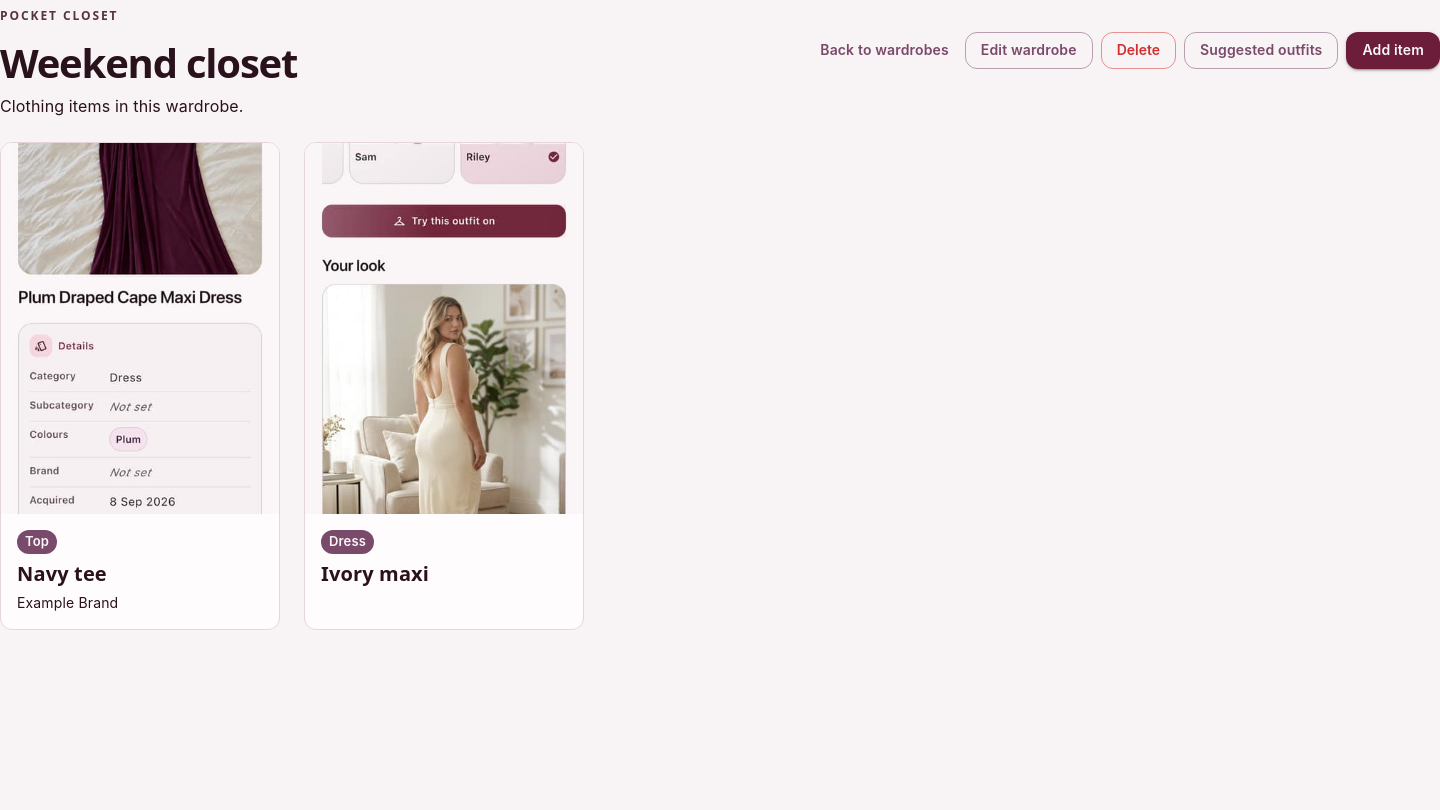
Test: WardrobeDetailPage › shows the server delete error, or a fallback when there is no message
Click the button with aria-label "Delete this wardrobe" at (1138, 50), box [1101,32,1176,68]
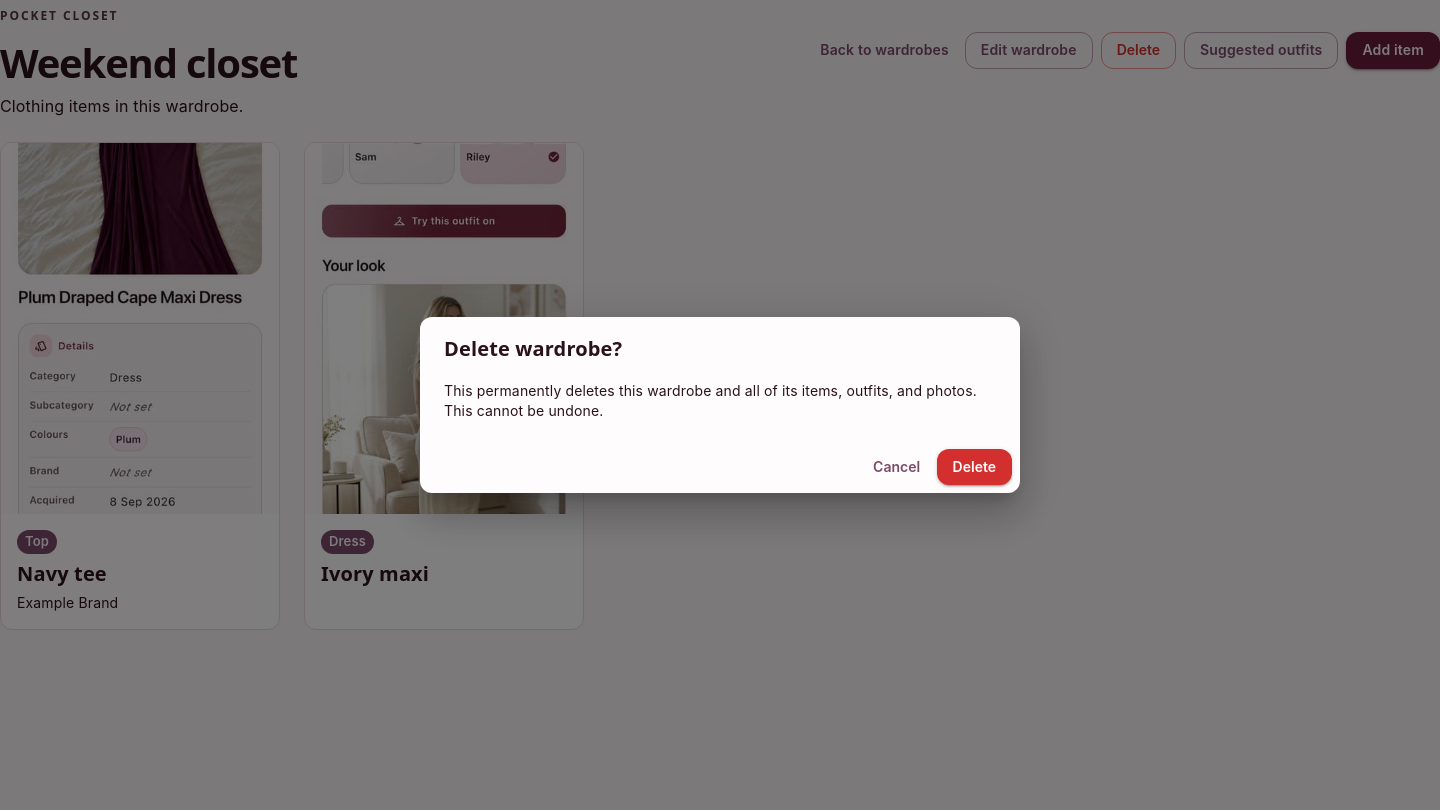
Click the button "Delete" at (974, 467), box [937,449,1012,485]
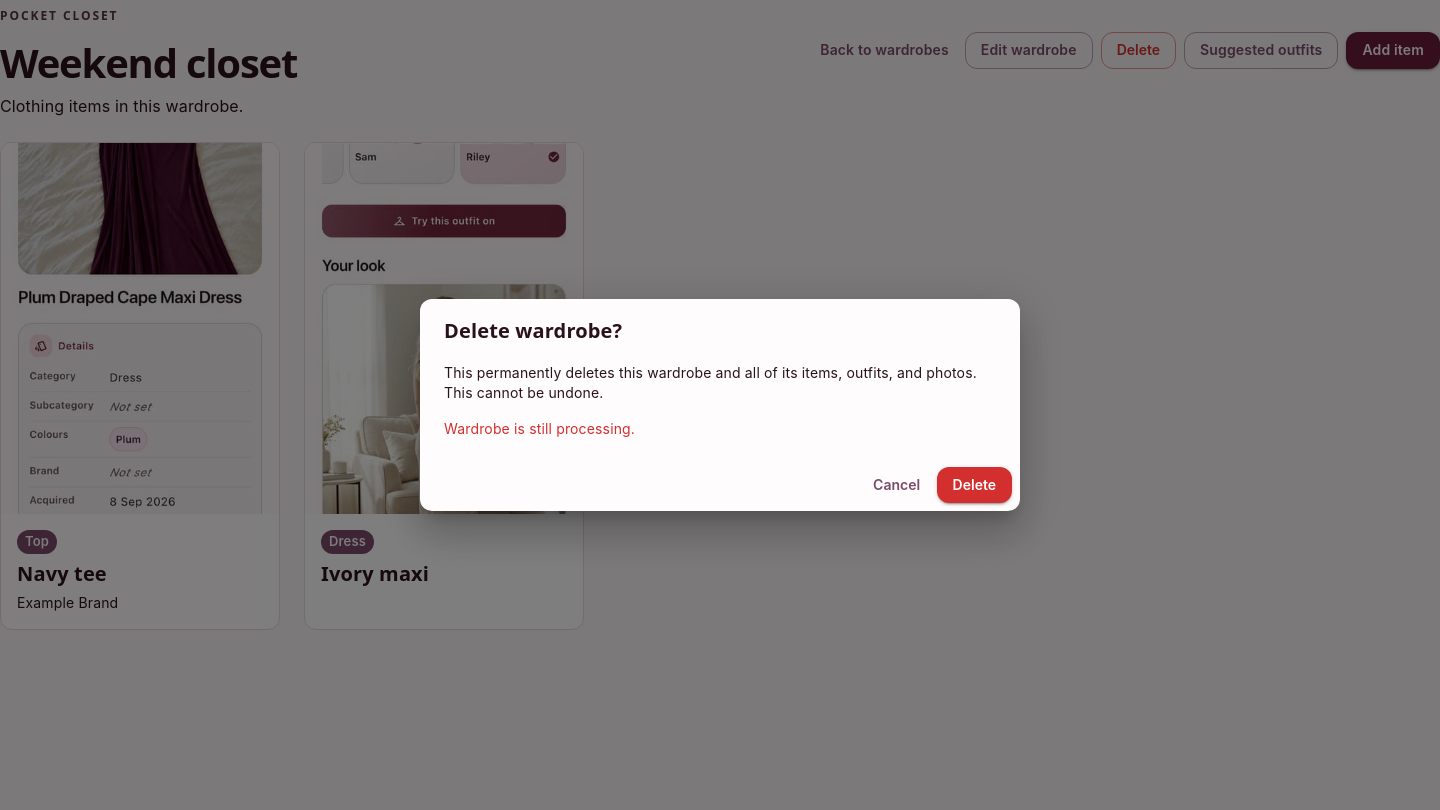
Expected: the heading "Weekend closet" is shown, [0,40,297,86]
Expected: the message reads "Wardrobe is still processing.", [444,420,635,437]
Click the button "Delete" at (974, 485), box [937,467,1012,503]
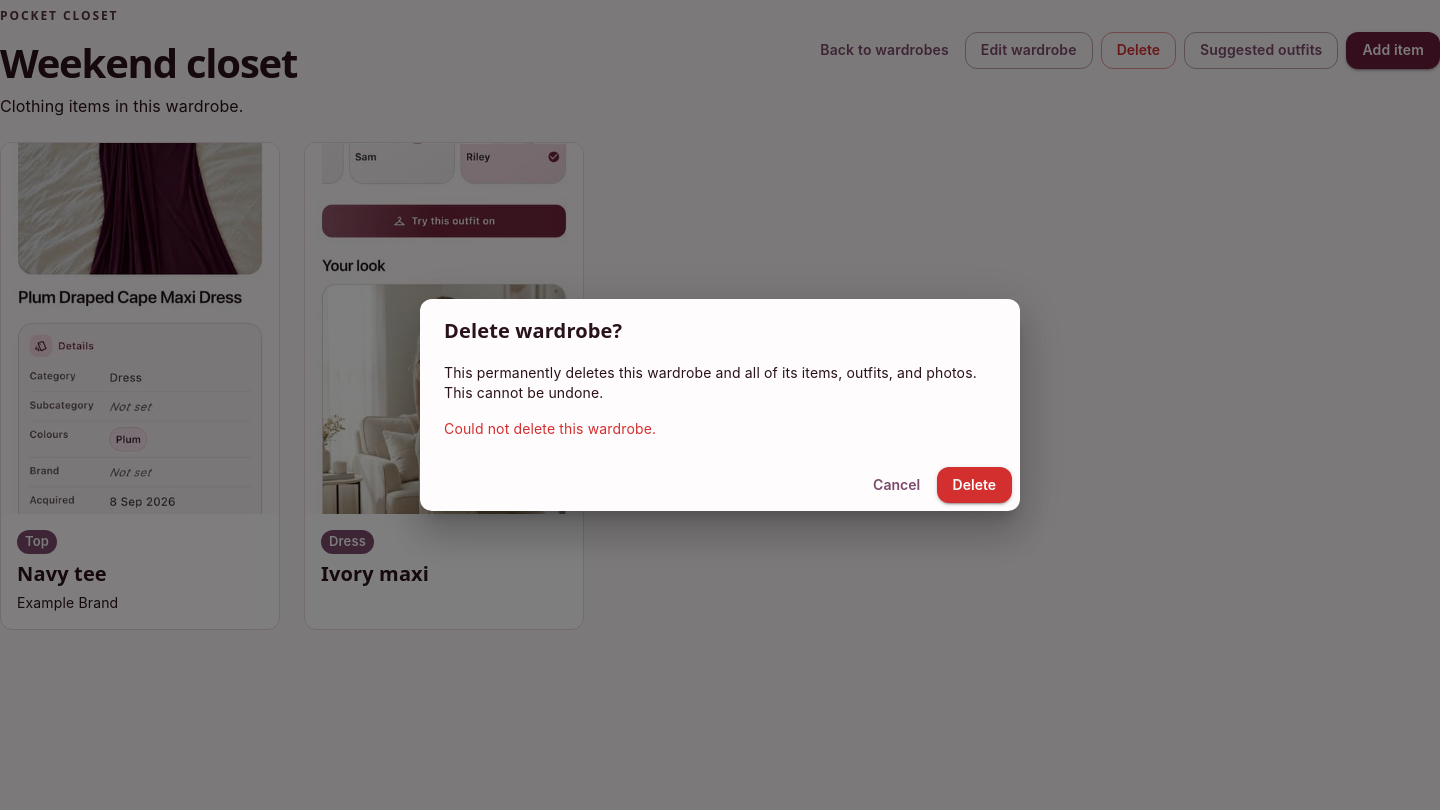
Expected: the heading "Weekend closet" is shown, [0,40,297,86]
Expected: the message reads "Could not delete this wardrobe.", [444,420,656,437]
